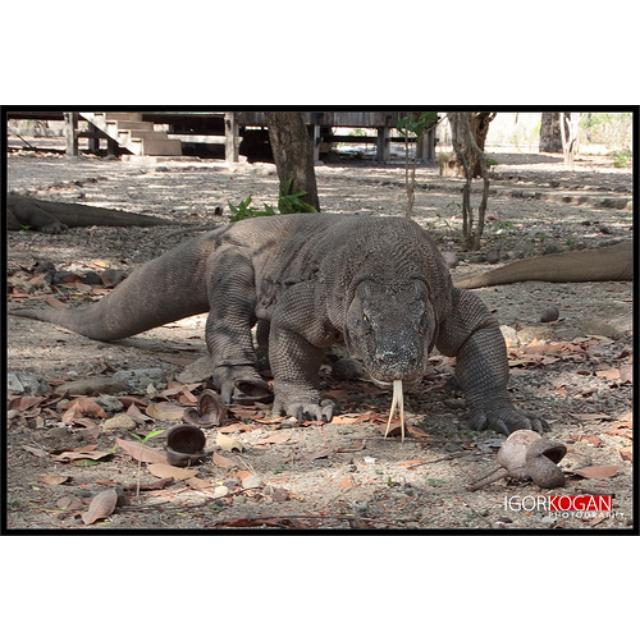KomodoDragon: (8, 210, 550, 434)
